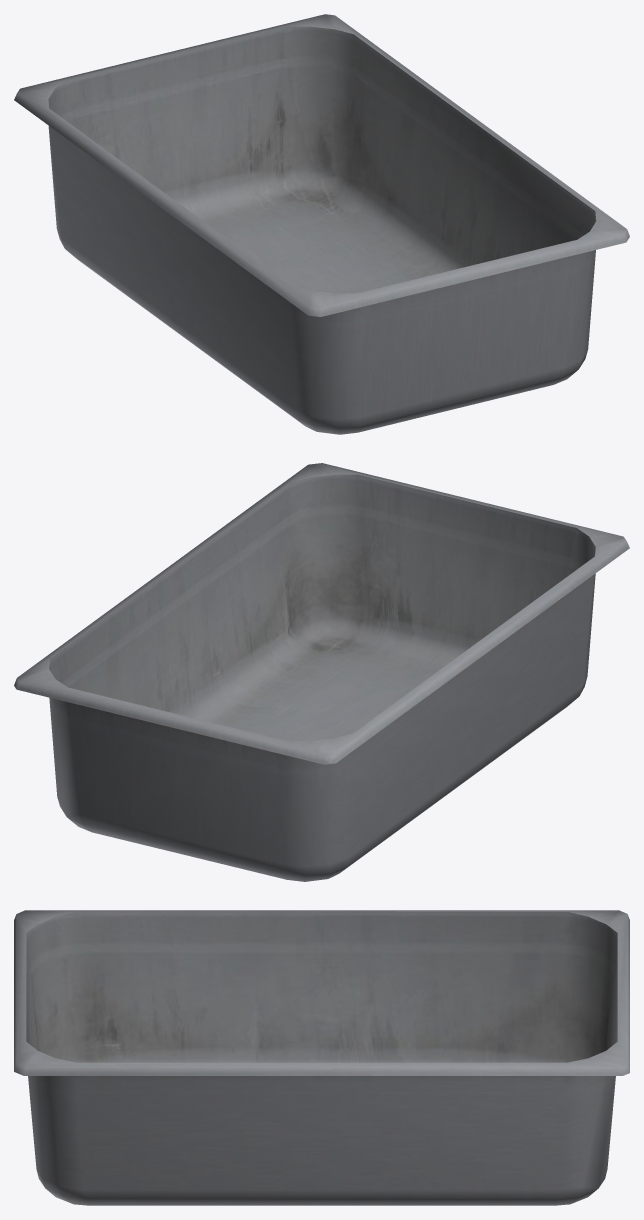
Rendered from SM_Hotel_Pan150_1_1_01.glb.
3 renders of one model, top to bottom at view 1: azimuth 30°, elevation 25°; view 2: azimuth 150°, elevation 25°; view 3: azimuth 270°, elevation 25°, orthographic.
Parts seen in each view (by area): view 1: SM_Hotel_Pan150_1_1_01; view 2: SM_Hotel_Pan150_1_1_01; view 3: SM_Hotel_Pan150_1_1_01.
Part boxes in pixels (<box>): SM_Hotel_Pan150_1_1_01: <box>14,14,629,434</box>; SM_Hotel_Pan150_1_1_01: <box>14,463,629,881</box>; SM_Hotel_Pan150_1_1_01: <box>14,910,629,1205</box>.
Bounding box in the file's own units: 0.325 × 0.1492 × 0.53.
1 material, 1 textured.
